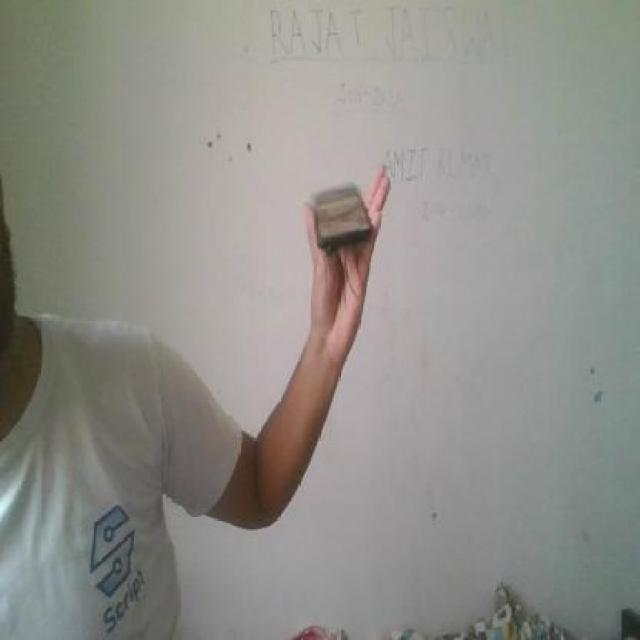Phone: (307, 181, 379, 257)
